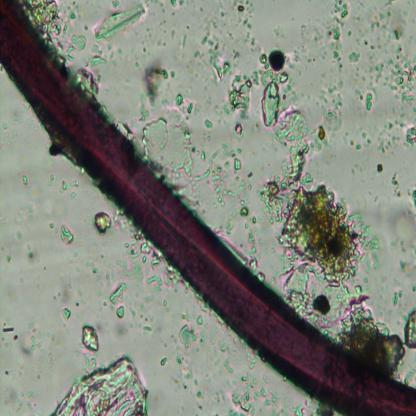Background material: (259, 175, 383, 339), (107, 237, 173, 334), (51, 352, 150, 416), (334, 306, 405, 379), (278, 102, 320, 191), (252, 46, 297, 129), (143, 114, 197, 179), (367, 54, 416, 115), (210, 143, 246, 210), (91, 3, 146, 41), (363, 4, 411, 47), (312, 80, 350, 131), (192, 35, 229, 85), (220, 73, 259, 120), (141, 60, 179, 107), (371, 119, 416, 154), (326, 0, 351, 58), (210, 334, 240, 377), (28, 0, 61, 36), (18, 321, 46, 361), (171, 352, 197, 394), (268, 387, 305, 416), (387, 212, 416, 243), (393, 239, 416, 278), (226, 389, 256, 416), (60, 32, 88, 59), (177, 325, 206, 351), (88, 42, 106, 82), (233, 0, 255, 32), (14, 204, 33, 240), (61, 2, 81, 34), (403, 304, 416, 352), (2, 386, 25, 413), (80, 68, 103, 93), (354, 84, 376, 110), (54, 282, 76, 306), (240, 202, 262, 226), (81, 326, 101, 352), (94, 209, 112, 236), (240, 370, 264, 390), (58, 223, 76, 247), (0, 320, 18, 344), (249, 256, 266, 280), (251, 389, 271, 407), (222, 216, 240, 236), (230, 120, 245, 144), (24, 390, 38, 413), (391, 170, 402, 199), (138, 90, 148, 120), (244, 231, 256, 256), (406, 187, 416, 214), (196, 166, 211, 181), (201, 19, 215, 35), (391, 288, 403, 306), (60, 308, 74, 322), (108, 44, 122, 58), (348, 51, 362, 65), (34, 361, 44, 380), (373, 159, 385, 174), (172, 93, 184, 108), (407, 372, 416, 392), (246, 355, 257, 370), (26, 242, 35, 260), (58, 180, 69, 194), (361, 132, 372, 146), (232, 47, 242, 62), (274, 25, 284, 40), (180, 30, 188, 48), (162, 300, 171, 314), (193, 313, 204, 324), (188, 101, 198, 113), (110, 0, 123, 9), (91, 262, 99, 276), (225, 28, 234, 40), (205, 117, 214, 129), (202, 130, 210, 143), (160, 1, 168, 14), (157, 38, 167, 48), (46, 175, 56, 185), (21, 174, 30, 185), (170, 28, 177, 41), (160, 339, 168, 350), (145, 0, 157, 7), (196, 388, 204, 398), (160, 355, 168, 365), (169, 0, 177, 10), (251, 36, 257, 49), (5, 367, 12, 377), (200, 152, 206, 163), (245, 32, 251, 42), (356, 141, 362, 151), (71, 179, 78, 187), (178, 0, 187, 6), (6, 254, 12, 263), (48, 223, 55, 230), (183, 23, 190, 30), (76, 289, 84, 295), (197, 404, 203, 411), (248, 170, 253, 178), (411, 284, 416, 292), (141, 46, 147, 52), (70, 193, 76, 199), (220, 11, 225, 18), (84, 23, 89, 29), (199, 7, 204, 13), (74, 302, 80, 307), (135, 61, 139, 68), (171, 12, 175, 17), (249, 182, 251, 191)
Microfibre: (0, 0, 416, 416)
